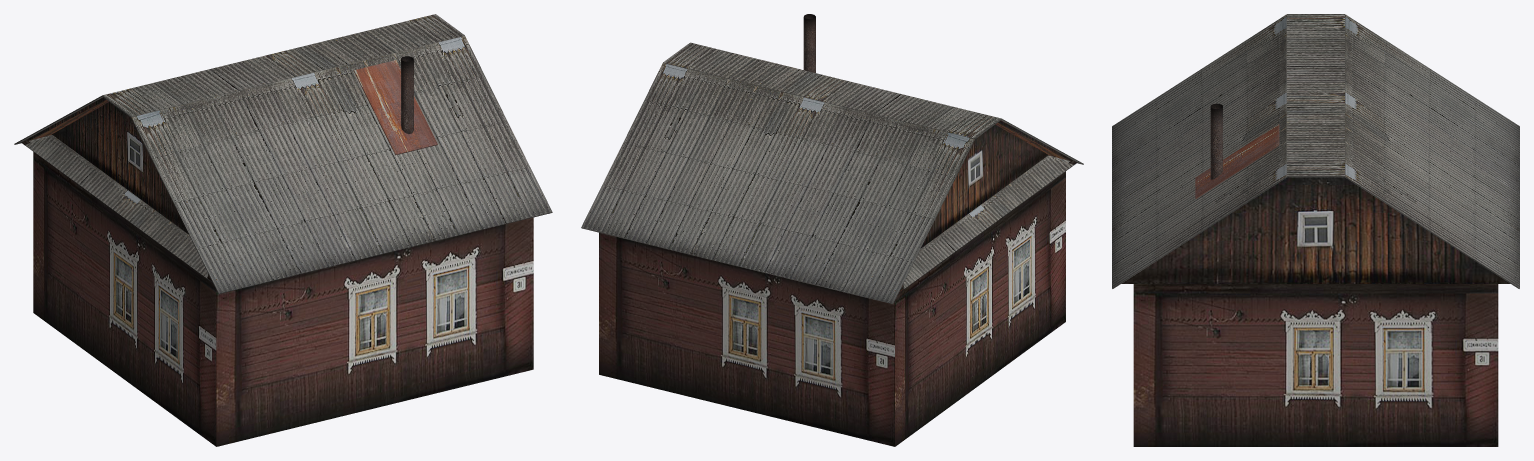
Rendered from sibir_domik3.FBX.
The picture shows the model from 3 angles, left to right: view 1: azimuth 30°, elevation 25°; view 2: azimuth 150°, elevation 25°; view 3: azimuth 270°, elevation 25°; orthographic projection. The views are drawn at different scales.
Parts seen in each view (by area): view 1: sibir_domik3; view 2: sibir_domik3; view 3: sibir_domik3.
Boxes of the visible parts, <box> form: sibir_domik3: <box>14,14,552,446</box>; sibir_domik3: <box>581,14,1083,446</box>; sibir_domik3: <box>1112,14,1519,446</box>.
Size of the model in its own units: 844 by 894 by 725.
